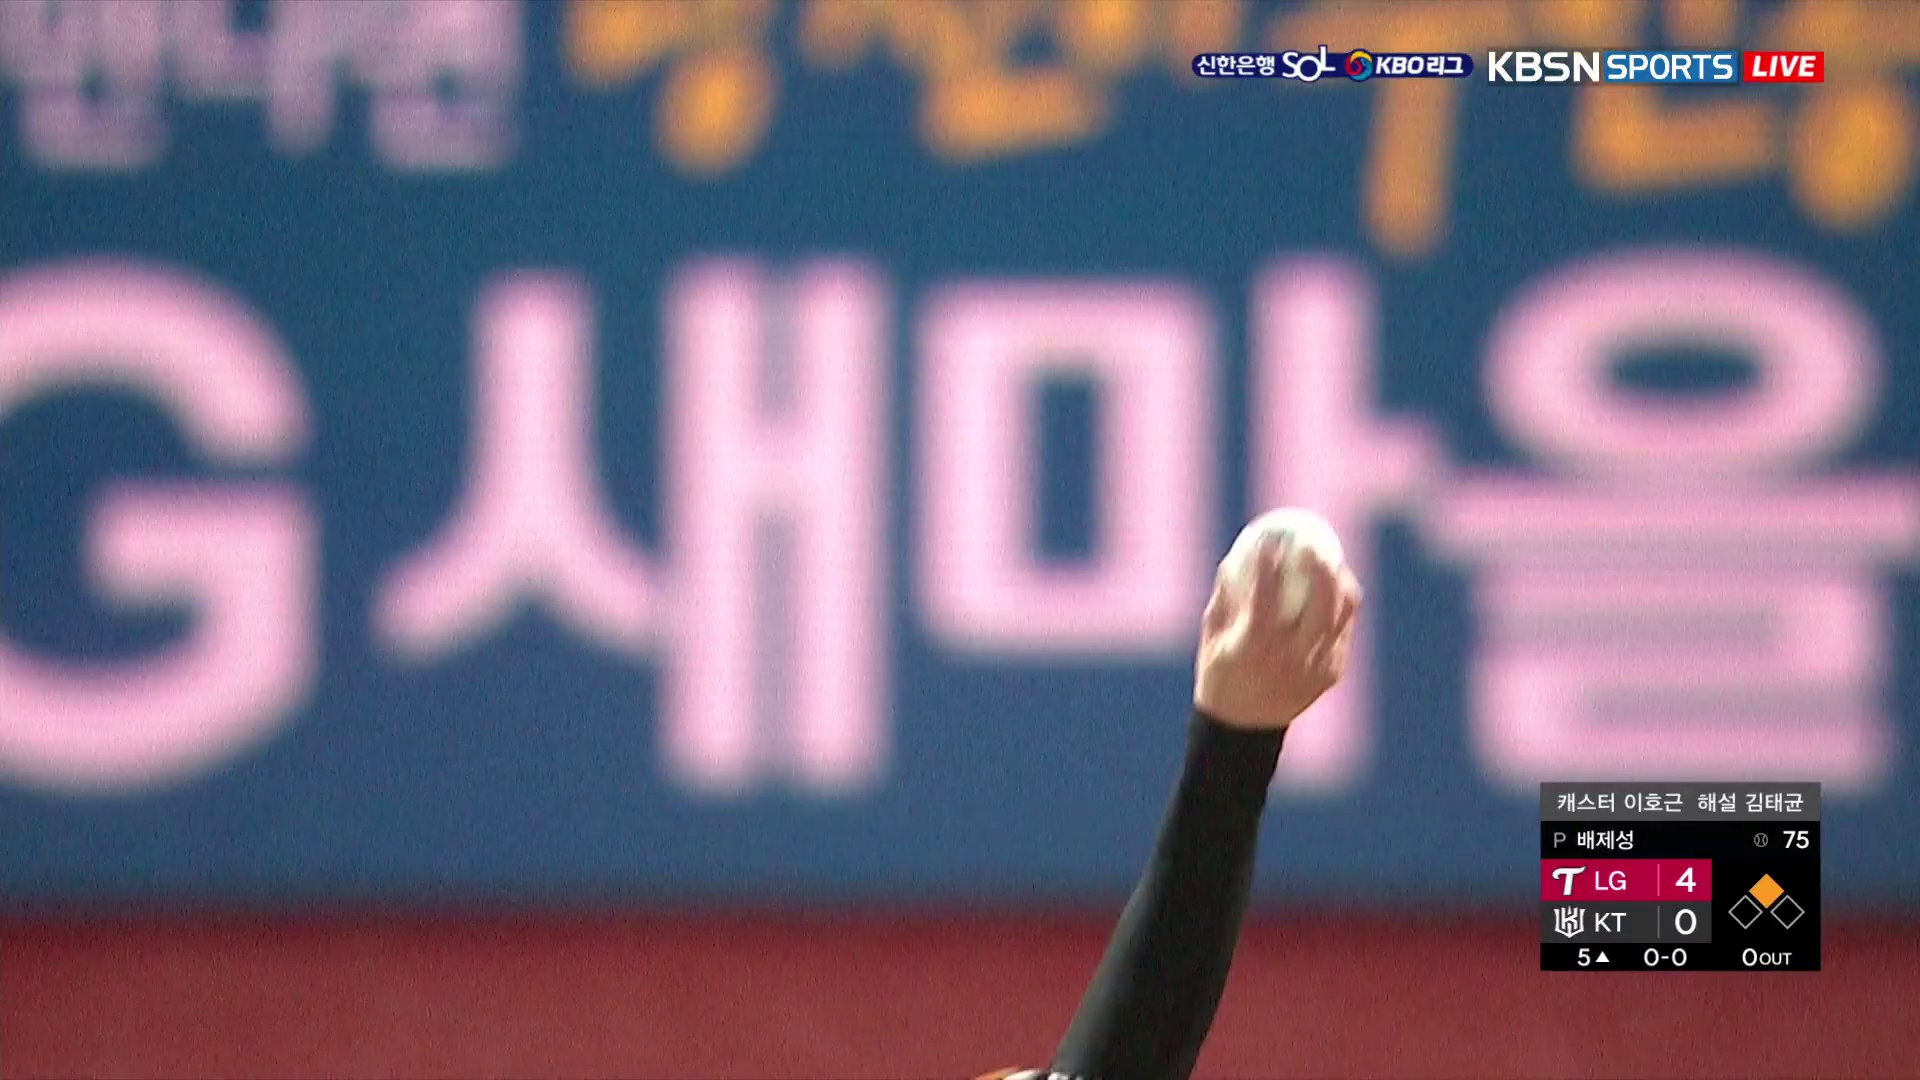zoomin_hand: (1026, 500, 1367, 1080)
